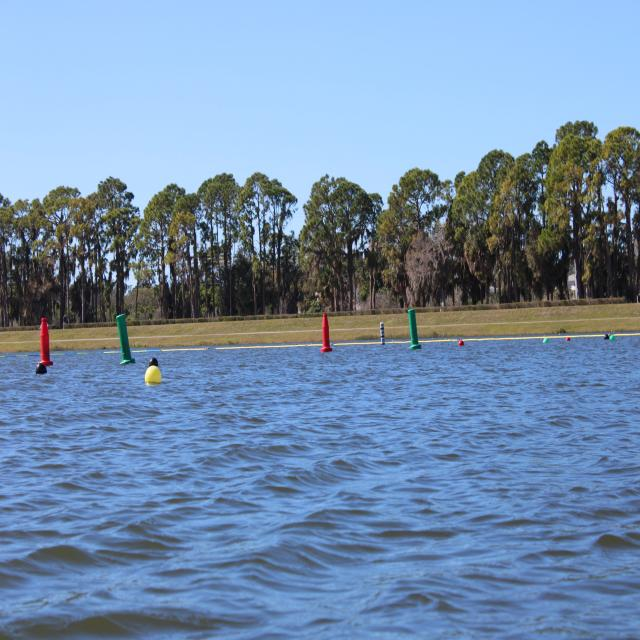green-buoy: (543, 338, 548, 346), (609, 336, 615, 342)
green-column-buoy: (115, 312, 135, 366), (409, 310, 423, 352)
red-buoy: (459, 340, 464, 348)
red-column-buoy: (38, 315, 54, 366), (320, 313, 332, 354)
yellow-buoy: (146, 363, 162, 385)
